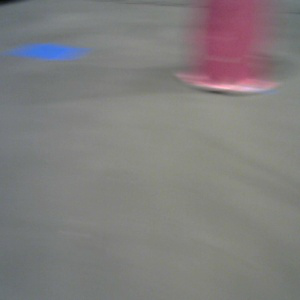Right: (183, 1, 275, 95)
